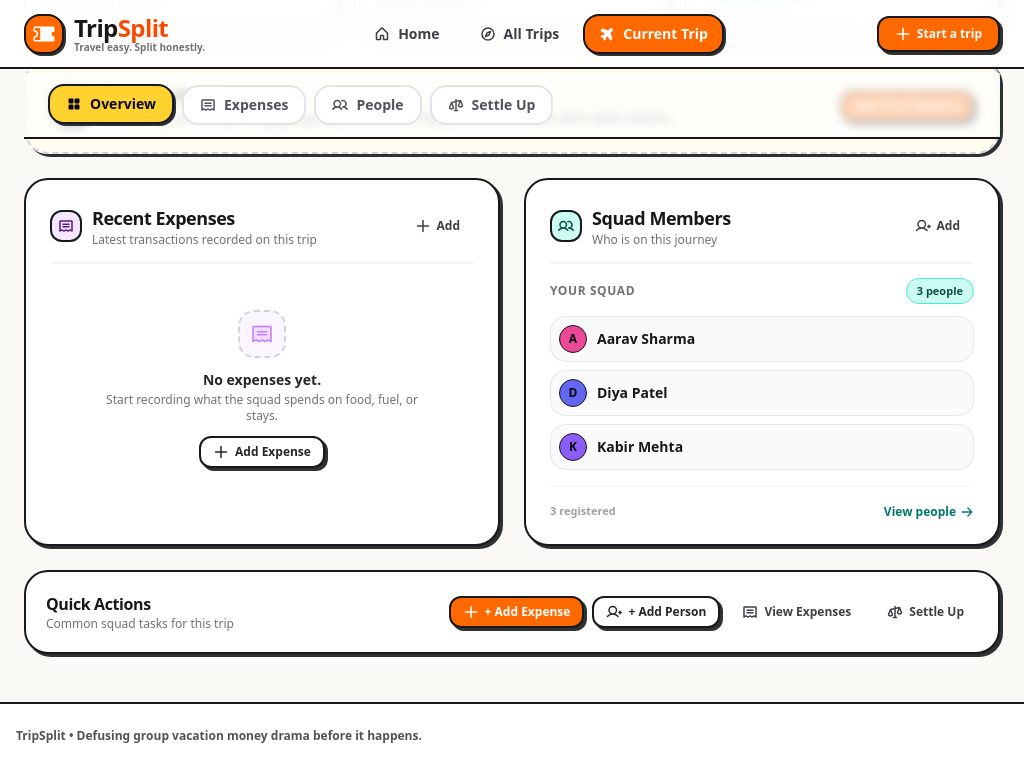
Scenario: Trip Dashboard & Financial Integration Tests (Step 7) › 13. creating an expense via modal immediately updates dashboard totals
(page scrolled)
# Open Add Expense modal
Step 1. Click the button "+ Add Expense" → (517, 612), box x1=449 y1=596 x2=584 y2=628
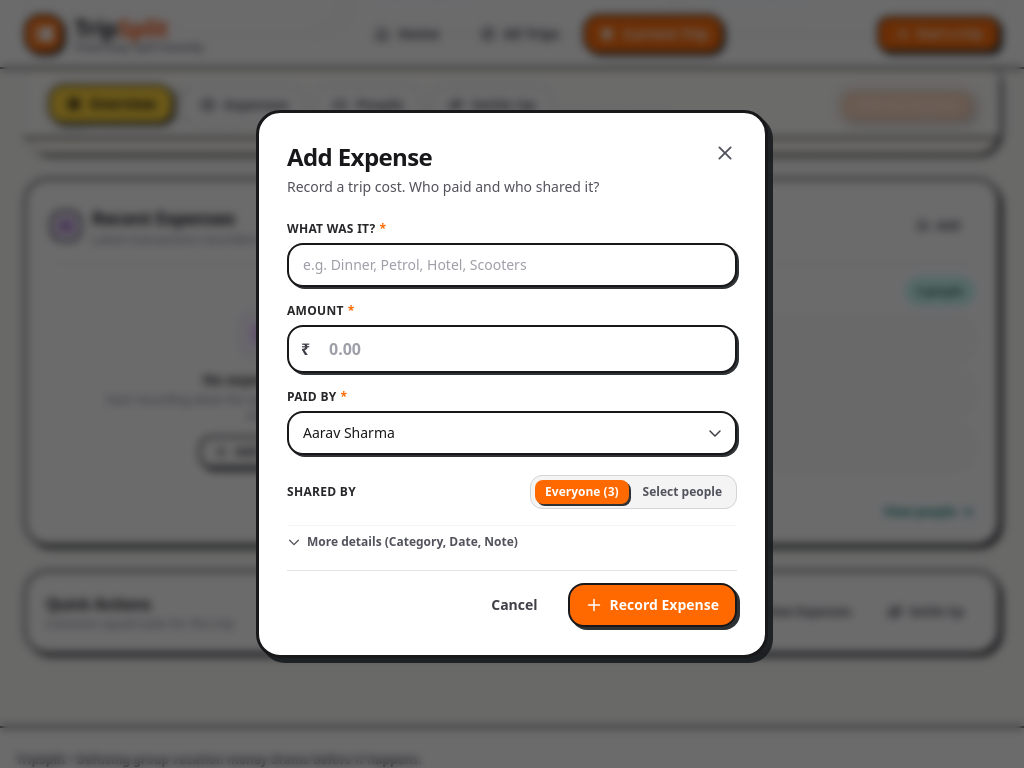
# Fill form
Step 2. Type "Sunset Cruise" into the field labelled "What was it? *" → (512, 265), box x1=287 y1=243 x2=737 y2=287
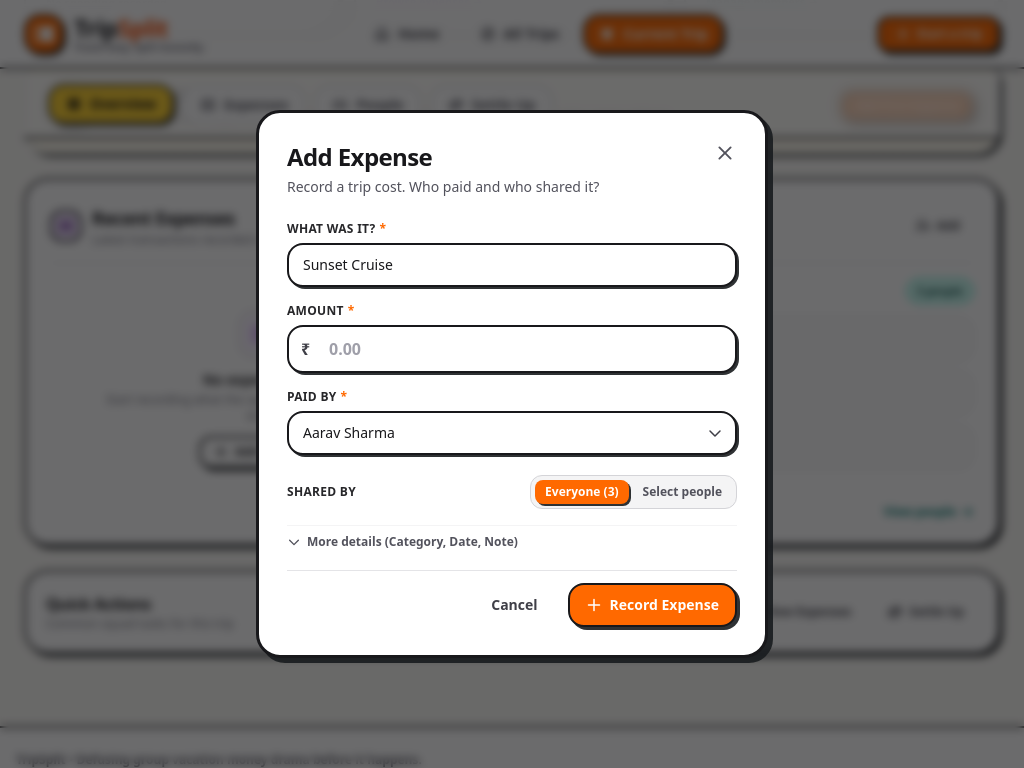
Step 3. Type "2400" into the number field labelled "Amount *" → (512, 349), box x1=287 y1=325 x2=737 y2=373
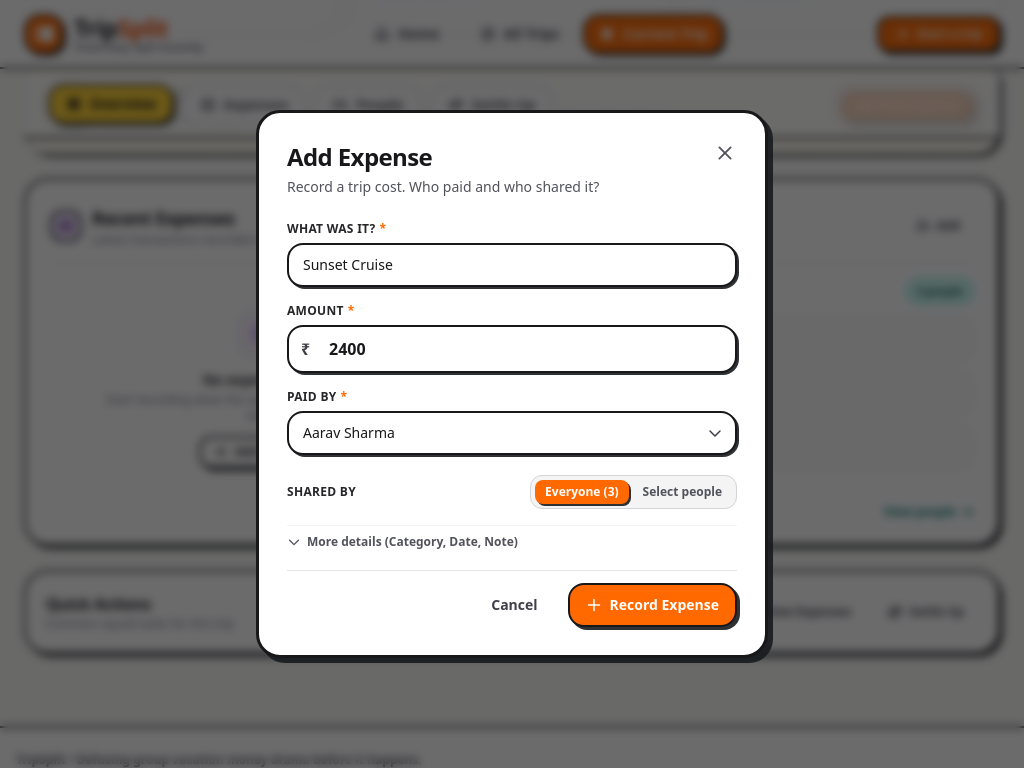
Step 4. Click the button "Record Expense" → (652, 605), box x1=568 y1=583 x2=737 y2=627
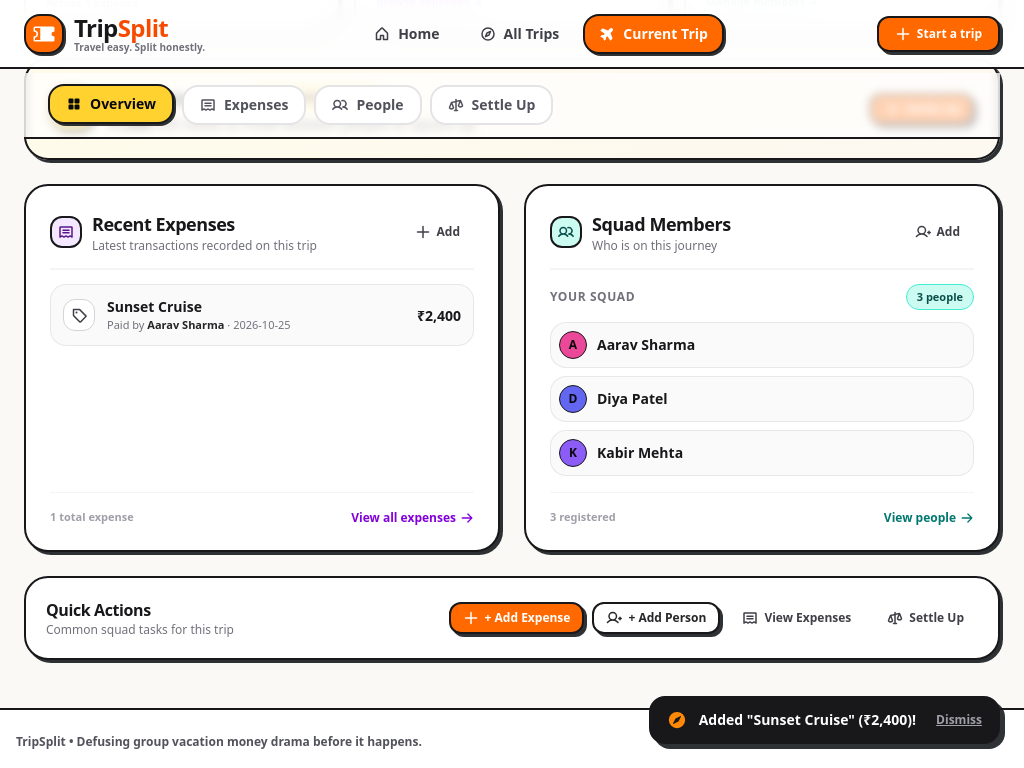
Expected: the text "Sunset Cruise" is shown, x1=107 y1=297 x2=202 y2=316
